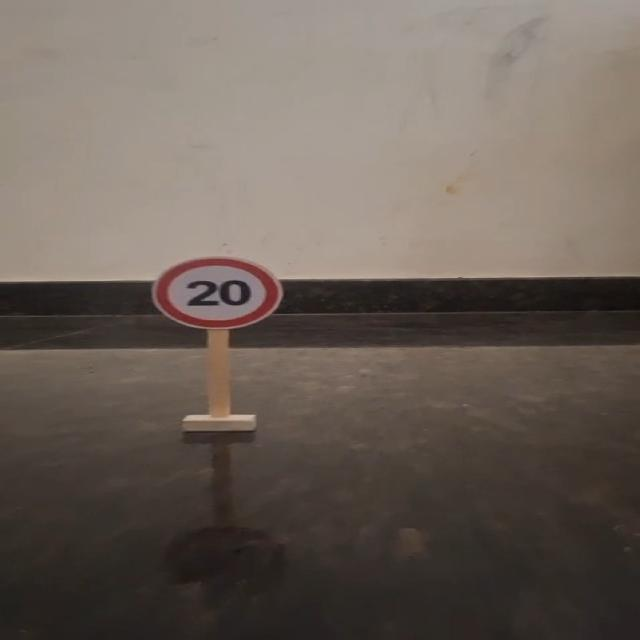Speed20: (142, 250, 289, 335)
